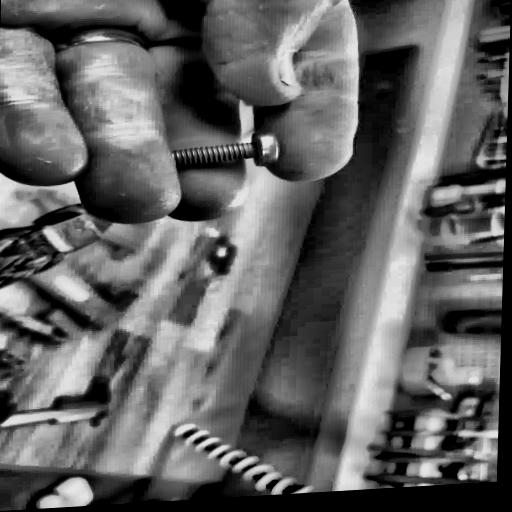nut: (166, 127, 285, 176)
